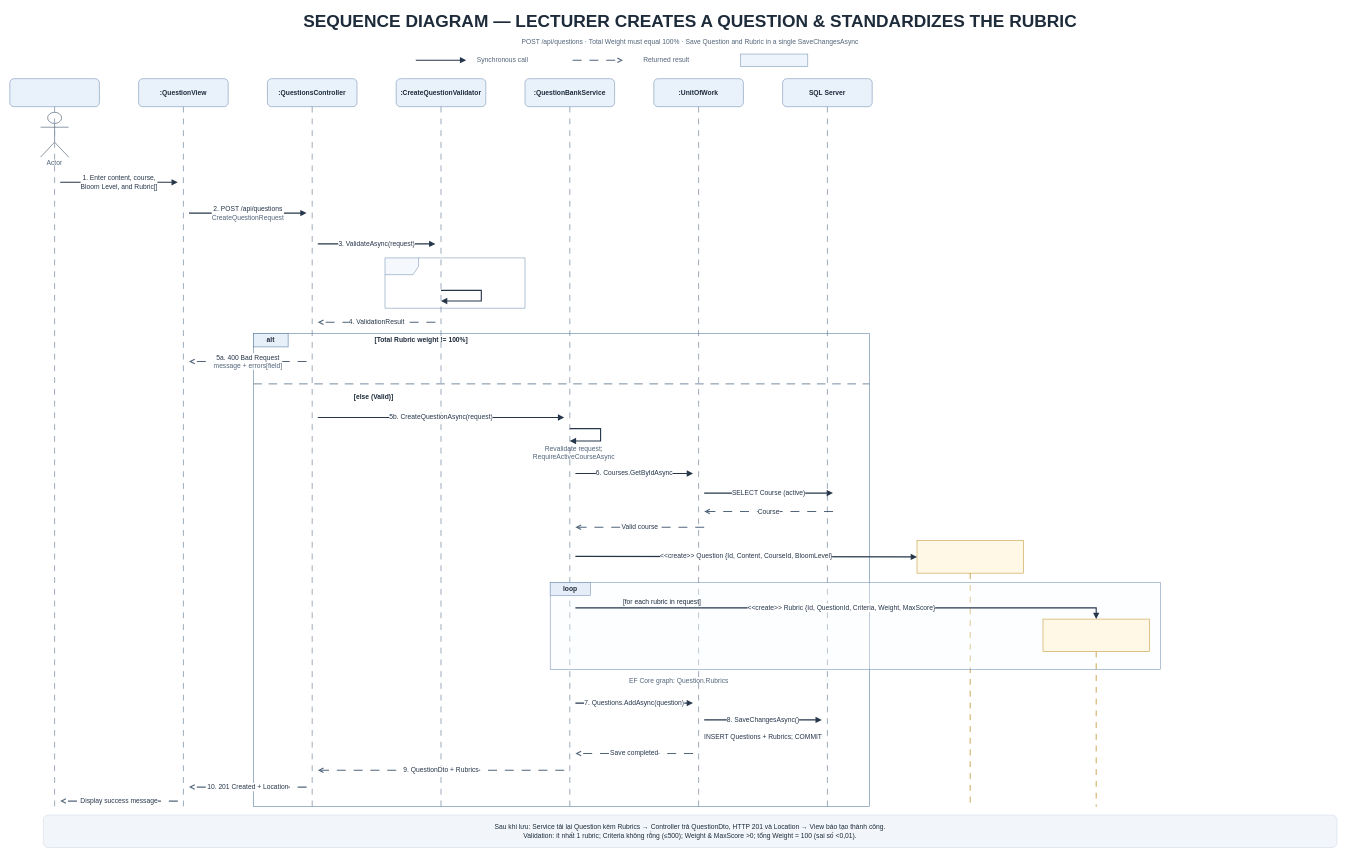
Some shapes in this 1347 by 857 pixel diagram are drawn without their labels. Each missing label, with the box of its shape:
:Question: (916, 540, 1023, 573)
:Rubric: (1042, 619, 1149, 652)
alt / loop: (740, 53, 808, 66)
Lecturer: (9, 78, 99, 107)
loop [for each rubric in request]: (384, 257, 525, 308)
